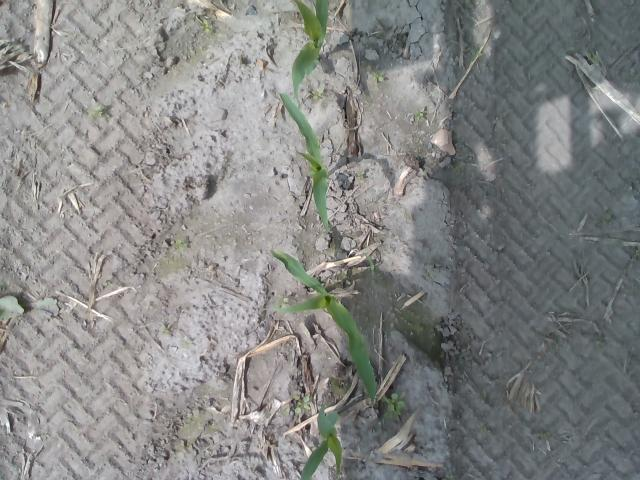Maize: (267, 248, 377, 402), (276, 90, 330, 232), (290, 0, 330, 100), (298, 403, 343, 480)
Weeds: (0, 294, 60, 320), (280, 392, 310, 416), (380, 393, 408, 415), (198, 17, 214, 34), (274, 295, 289, 308), (371, 70, 384, 82), (310, 90, 322, 100), (92, 104, 105, 113), (414, 109, 424, 120), (174, 239, 184, 248)
